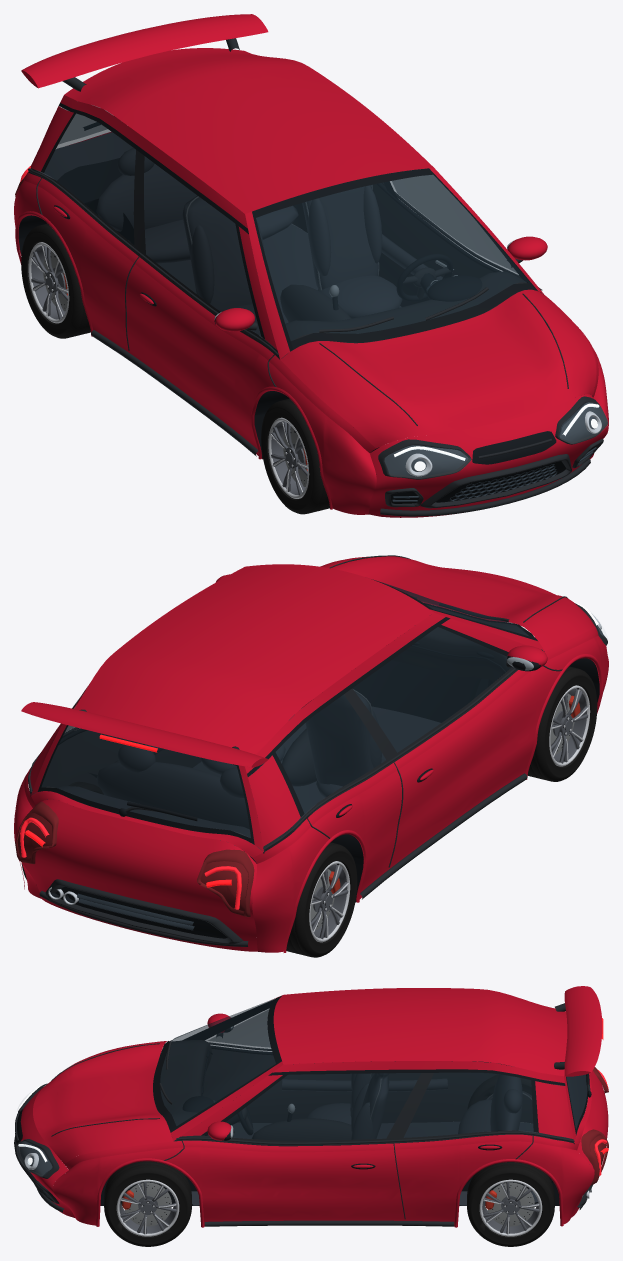
Rendered from hatch.glb.
The picture shows the model from 3 angles, top to bottom: view 1: azimuth 30°, elevation 25°; view 2: azimuth 150°, elevation 25°; view 3: azimuth 270°, elevation 25°; orthographic projection. The views are drawn at different scales.
Parts seen in each view (by area): view 1: body_paint, body_glass, body_upholstery, body_satin_graphite, body_weatherstrip, right_wheel_tyre_rubber (×2), body_lamp_housing, right_wheel_cast_graphite (×2), right_wheel_machined_alloy (×2); view 2: body_paint, body_glass, body_satin_graphite, body_upholstery, body_weatherstrip, right_wheel_tyre_rubber (×2), body_ruby_lens, right_wheel_cast_graphite (×2), right_wheel_machined_alloy (×2), body_lamp_housing, body_light_tail, body_light_brake; view 3: body_paint, body_glass, body_satin_graphite, body_upholstery, left_wheel_tyre_rubber (×2), body_weatherstrip, left_wheel_cast_graphite (×2), left_wheel_rotor_steel (×2), left_wheel_machined_alloy (×2), body_ruby_lens, right_wheel_tyre_rubber, body_lamp_housing.
Boxes of the visible parts, <box> form: body_paint: <box>14,14,608,517</box>; body_glass: <box>44,106,529,340</box>; body_upholstery: <box>36,132,442,337</box>; body_satin_graphite: <box>28,38,607,516</box>; body_weatherstrip: <box>18,103,596,514</box>; right_wheel_tyre_rubber (×2): <box>21,223,329,514</box>; body_lamp_housing: <box>384,279,605,501</box>; right_wheel_cast_graphite (×2): <box>31,245,307,495</box>; right_wheel_machined_alloy (×2): <box>28,242,309,498</box>; body_paint: <box>14,556,608,952</box>; body_glass: <box>41,580,528,837</box>; body_satin_graphite: <box>28,555,607,946</box>; body_upholstery: <box>57,692,440,850</box>; body_weatherstrip: <box>28,580,599,952</box>; right_wheel_tyre_rubber (×2): <box>286,666,597,957</box>; body_ruby_lens: <box>15,802,254,917</box>; right_wheel_cast_graphite (×2): <box>311,689,588,939</box>; right_wheel_machined_alloy (×2): <box>309,685,590,942</box>; body_lamp_housing: <box>77,625,604,930</box>; body_light_tail: <box>20,817,241,909</box>; body_light_brake: <box>25,734,231,887</box>; body_paint: <box>20,986,608,1227</box>; body_glass: <box>160,999,587,1140</box>; body_satin_graphite: <box>14,1003,592,1226</box>; body_upholstery: <box>191,1061,587,1205</box>; left_wheel_tyre_rubber (×2): <box>104,1161,554,1246</box>; body_weatherstrip: <box>15,996,591,1205</box>; left_wheel_cast_graphite (×2): <box>119,1182,539,1234</box>; left_wheel_rotor_steel (×2): <box>125,1182,534,1226</box>; left_wheel_machined_alloy (×2): <box>116,1179,542,1236</box>; body_ruby_lens: <box>581,1067,608,1185</box>; right_wheel_tyre_rubber: <box>467,1074,531,1109</box>; body_lamp_housing: <box>20,1100,215,1197</box>.
Bounding box in the file's own units: 2.06 × 1.44 × 4.26.
